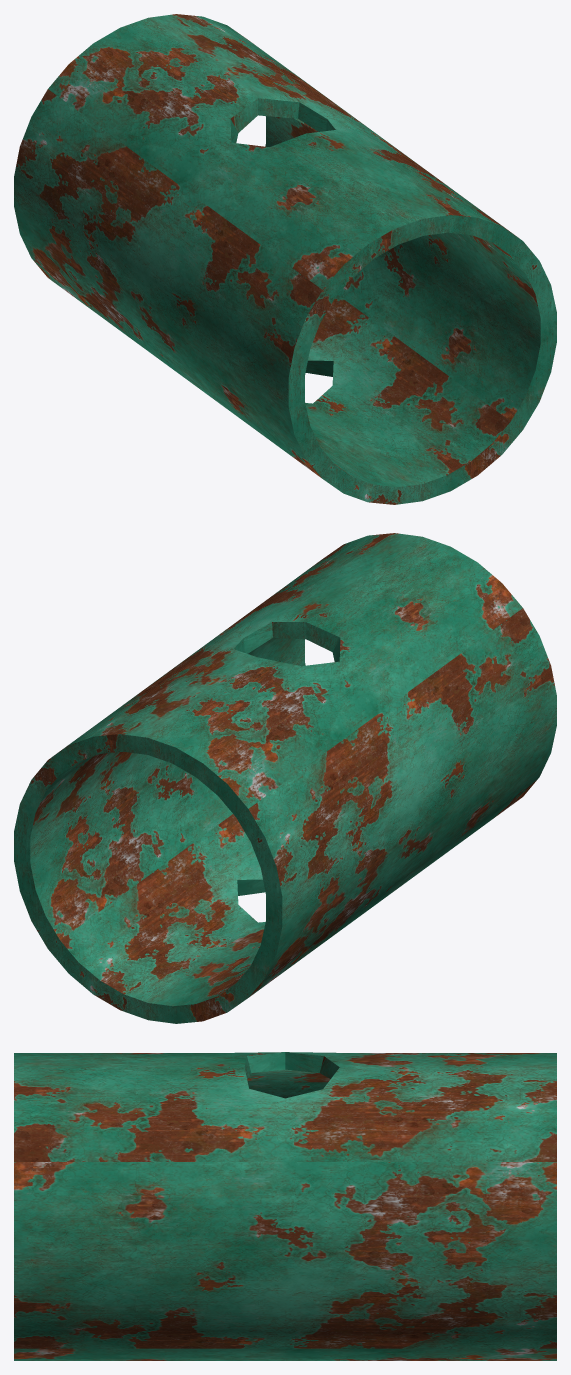
The model's file is CEV 1.fbx.
3 views of the same model, one above another, from view 1: azimuth 30°, elevation 25°; view 2: azimuth 150°, elevation 25°; view 3: azimuth 270°, elevation 25° (orthographic).
Visible parts, largest first — view 1: Tube002; view 2: Tube002; view 3: Tube002.
Part boxes in pixels (x1,y1,x2,y2): Tube002: (14, 14, 556, 504); Tube002: (14, 533, 556, 1023); Tube002: (14, 1052, 556, 1360).
Bounding box in the file's own units: 155 × 156 × 275.
